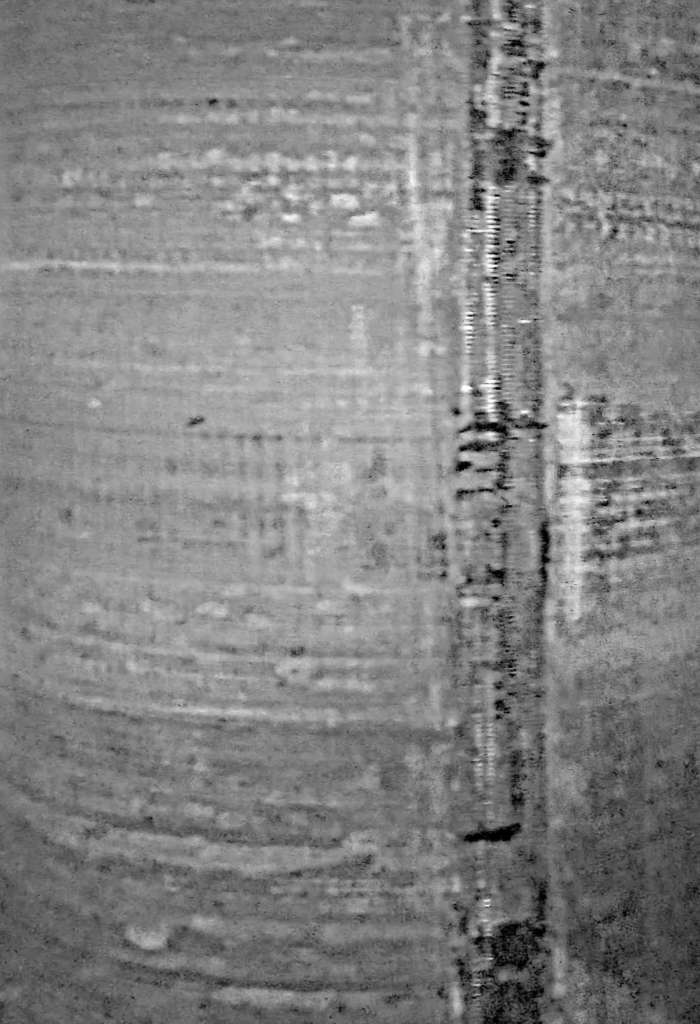splice: (436, 2, 578, 1024)
